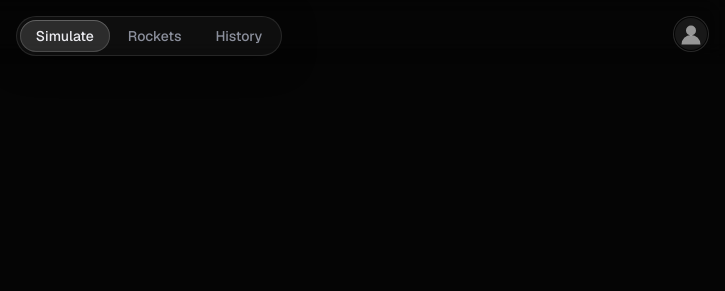
Test: AccountMenu › cannot request a password change for an account without an email
The width and height of the screenshot is (725, 291).
Click the button named "Account": coordinates (691, 34) [673,16,709,52]
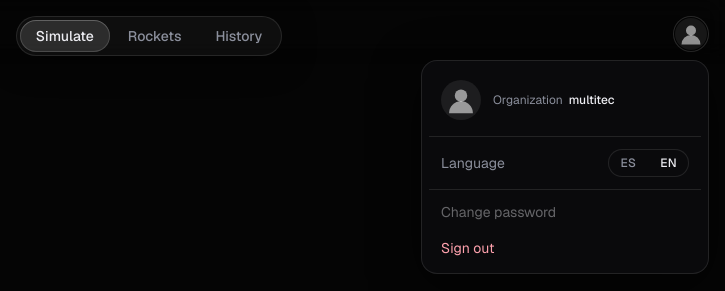
Result: the button "Change password" is disabled at [429,194,701,230]
